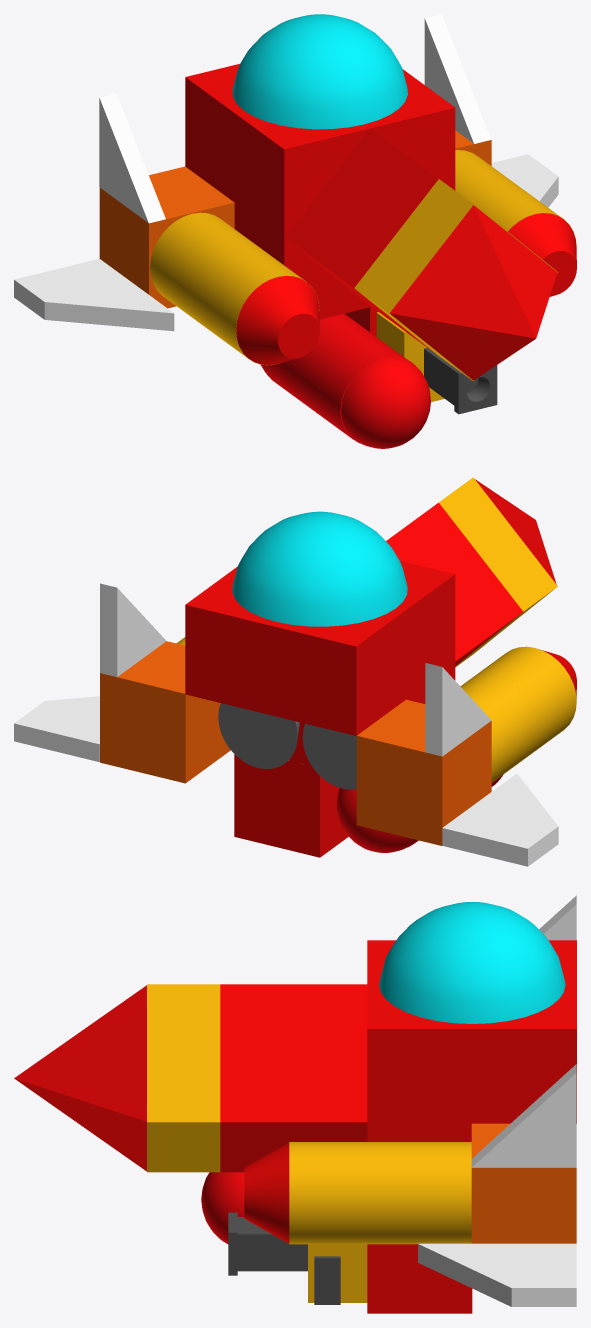
File: highwind_gummi_ship.glb
3 views of the same model, one above another, from view 1: azimuth 30°, elevation 25°; view 2: azimuth 150°, elevation 25°; view 3: azimuth 270°, elevation 25° (orthographic). The views are drawn at different scales.
Parts seen in each view (by area): view 1: Cube.003_30, Cone_35, Sphere_14, Cube.005_23, Cube.010_7, Sphere.001_0, Cube_32, Cube.001_33, Cube.002_34, Cylinder.005_29, Cylinder.002_27, Cylinder.003_28 (+12 smaller); view 2: Cube.003_30, Sphere_14, Cube.005_23, Cube.004_22, Cube.014_11, Cube.010_7, Cube_32, Cube.001_33, Cylinder.003_28, Cylinder.002_27, Cube.009_6, Cube.008_5 (+7 smaller); view 3: Cube.003_30, Sphere_14, Cube_32, Cube.001_33, Cone_35, Cube.002_34, Cylinder.000_24, Cube.004_22, Cylinder.001_25, Cube.009_6, Cube.007_4, Cube.014_11 (+7 smaller).
Boxes of the visible parts, bbox=[...] form: Cube.003_30: bbox=[185, 64, 455, 238]; Cone_35: bbox=[389, 205, 557, 380]; Sphere_14: bbox=[232, 14, 407, 129]; Cube.005_23: bbox=[99, 166, 234, 308]; Cube.010_7: bbox=[14, 258, 174, 331]; Sphere.001_0: bbox=[341, 356, 430, 448]; Cube_32: bbox=[354, 179, 557, 381]; Cube.001_33: bbox=[320, 154, 438, 353]; Cube.002_34: bbox=[285, 128, 404, 327]; Cylinder.005_29: bbox=[236, 276, 319, 365]; Cylinder.002_27: bbox=[150, 212, 266, 329]; Cylinder.003_28: bbox=[197, 247, 319, 365]; Cube.003_30: bbox=[185, 561, 455, 735]; Sphere_14: bbox=[232, 511, 407, 626]; Cube.005_23: bbox=[356, 699, 491, 845]; Cube.004_22: bbox=[100, 641, 230, 783]; Cube.014_11: bbox=[234, 754, 348, 857]; Cube.010_7: bbox=[442, 773, 558, 866]; Cube_32: bbox=[439, 477, 557, 667]; Cube.001_33: bbox=[404, 502, 522, 665]; Cylinder.003_28: bbox=[468, 646, 576, 757]; Cylinder.002_27: bbox=[460, 675, 537, 782]; Cube.009_6: bbox=[14, 696, 99, 761]; Cube.008_5: bbox=[425, 663, 491, 756]; Cube.003_30: bbox=[367, 940, 576, 1123]; Sphere_14: bbox=[379, 902, 565, 1023]; Cube_32: bbox=[147, 984, 220, 1172]; Cube.001_33: bbox=[220, 984, 293, 1172]; Cone_35: bbox=[14, 985, 146, 1171]; Cube.002_34: bbox=[293, 984, 367, 1141]; Cylinder.000_24: bbox=[372, 1142, 471, 1244]; Cube.004_22: bbox=[471, 1123, 576, 1243]; Cylinder.001_25: bbox=[289, 1142, 371, 1244]; Cube.009_6: bbox=[418, 1243, 576, 1306]; Cube.007_4: bbox=[471, 1064, 576, 1167]; Cube.014_11: bbox=[367, 1244, 472, 1313].
Size of the model in its own units: 10.91 by 6.85 by 9.75.
